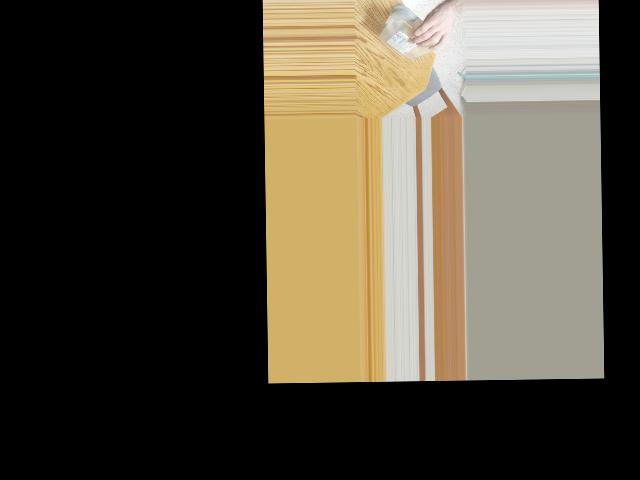cheese: (379, 6, 444, 59)
